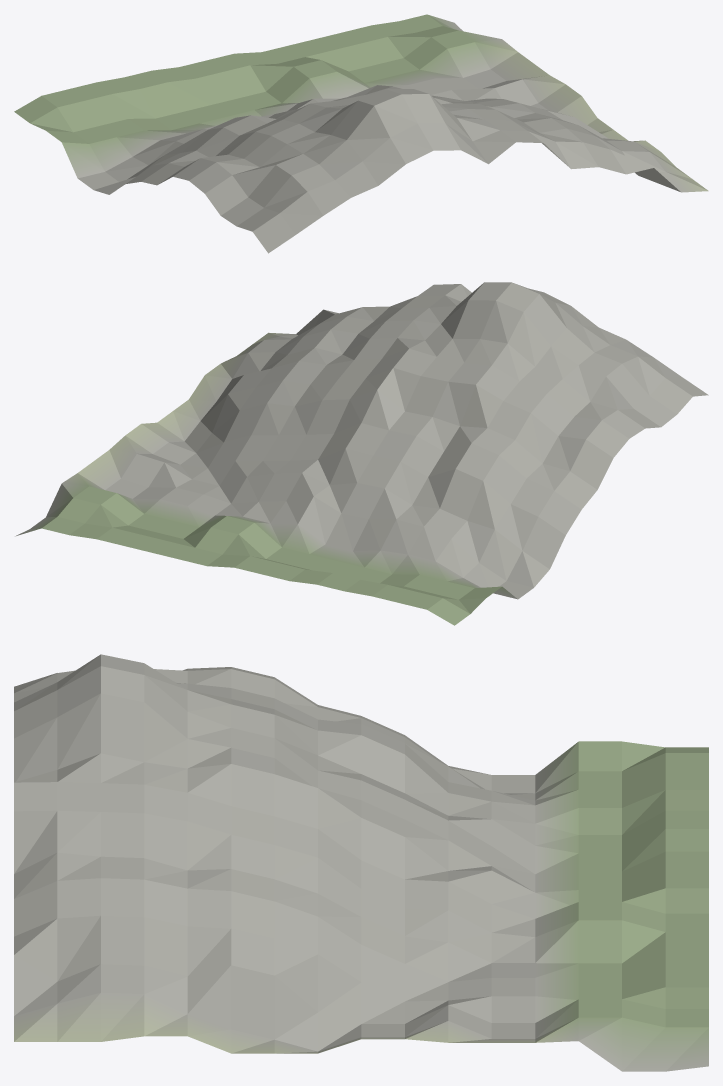
3 renders of one model, top to bottom at view 1: azimuth 30°, elevation 25°; view 2: azimuth 150°, elevation 25°; view 3: azimuth 270°, elevation 25°, orthographic. The views are drawn at different scales.
Bounding box in the file's own units: 32 × 11.28 × 32.
